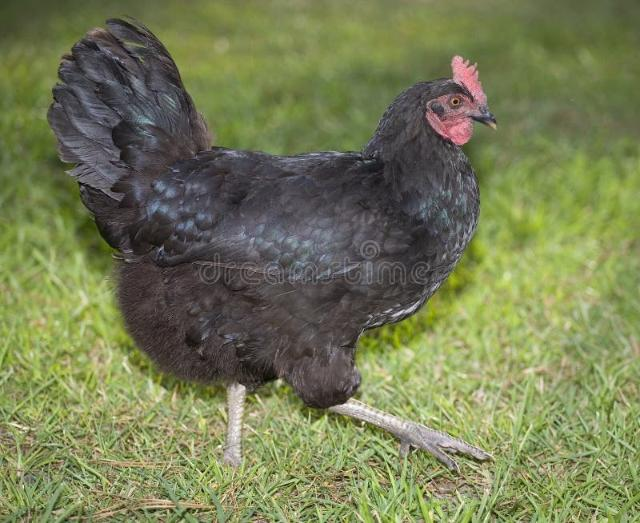Chicken: (46, 14, 500, 478)
